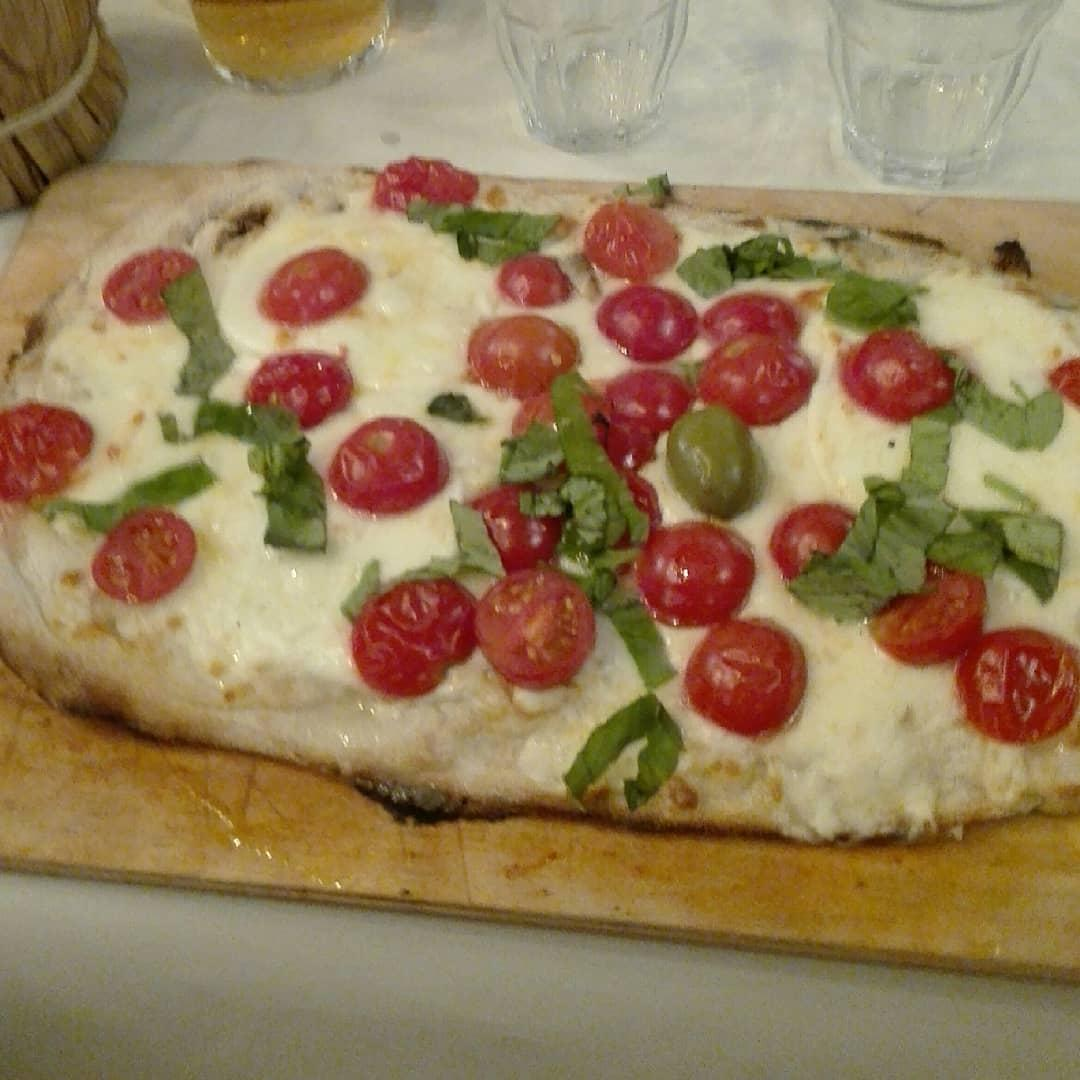Basil: (780, 468, 1066, 629), (501, 368, 654, 583), (154, 397, 337, 557), (341, 493, 508, 615), (930, 347, 1073, 465), (559, 686, 688, 810), (579, 563, 690, 697), (48, 455, 218, 530), (153, 262, 242, 403), (391, 189, 574, 255), (666, 227, 843, 291), (811, 262, 923, 333), (875, 406, 962, 492), (425, 377, 480, 427), (647, 169, 684, 219)
Pizza: (0, 157, 1080, 848)
Tomatoes: (470, 567, 602, 697), (347, 573, 481, 698), (683, 610, 809, 741), (960, 621, 1080, 755), (869, 560, 1000, 673), (631, 519, 758, 634), (694, 324, 823, 425), (328, 417, 456, 515), (844, 322, 961, 423), (454, 306, 589, 391), (241, 345, 355, 443), (591, 383, 673, 518), (94, 504, 198, 610), (448, 479, 569, 568), (576, 193, 689, 288), (0, 397, 96, 508), (587, 275, 706, 363), (255, 248, 372, 328), (101, 242, 204, 326), (367, 151, 484, 219), (683, 286, 804, 347), (489, 242, 587, 307), (775, 499, 854, 578), (609, 359, 694, 427), (496, 379, 568, 436), (1043, 342, 1080, 416)
